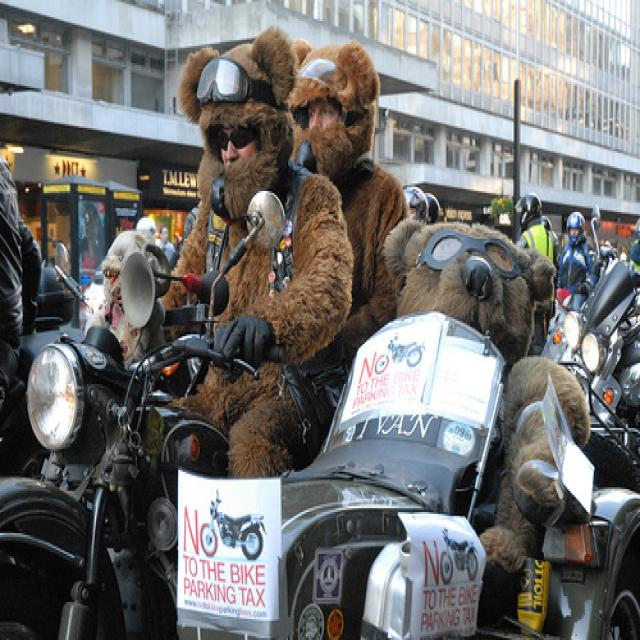motor: (179, 314, 640, 640), (558, 204, 639, 477), (547, 287, 575, 337)
